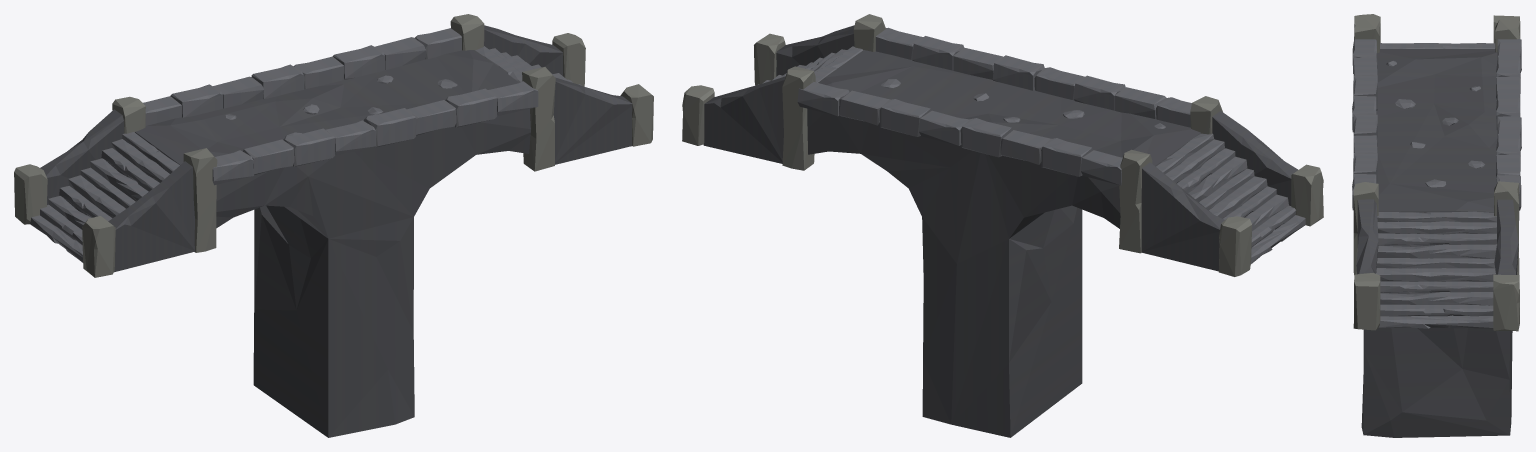
File: Bridge_1.fbx
The picture shows the model from 3 angles, left to right: view 1: azimuth 30°, elevation 25°; view 2: azimuth 150°, elevation 25°; view 3: azimuth 270°, elevation 25°; orthographic projection.
Visible parts, largest first — view 1: polySurface10231; view 2: polySurface10231; view 3: polySurface10231.
Boxes of the visible parts, x1,y1,x2,y2 form: polySurface10231: (14, 14, 653, 437); polySurface10231: (682, 14, 1323, 437); polySurface10231: (1352, 14, 1521, 437).
Size of the model in its own units: 1333 by 716 by 353.
